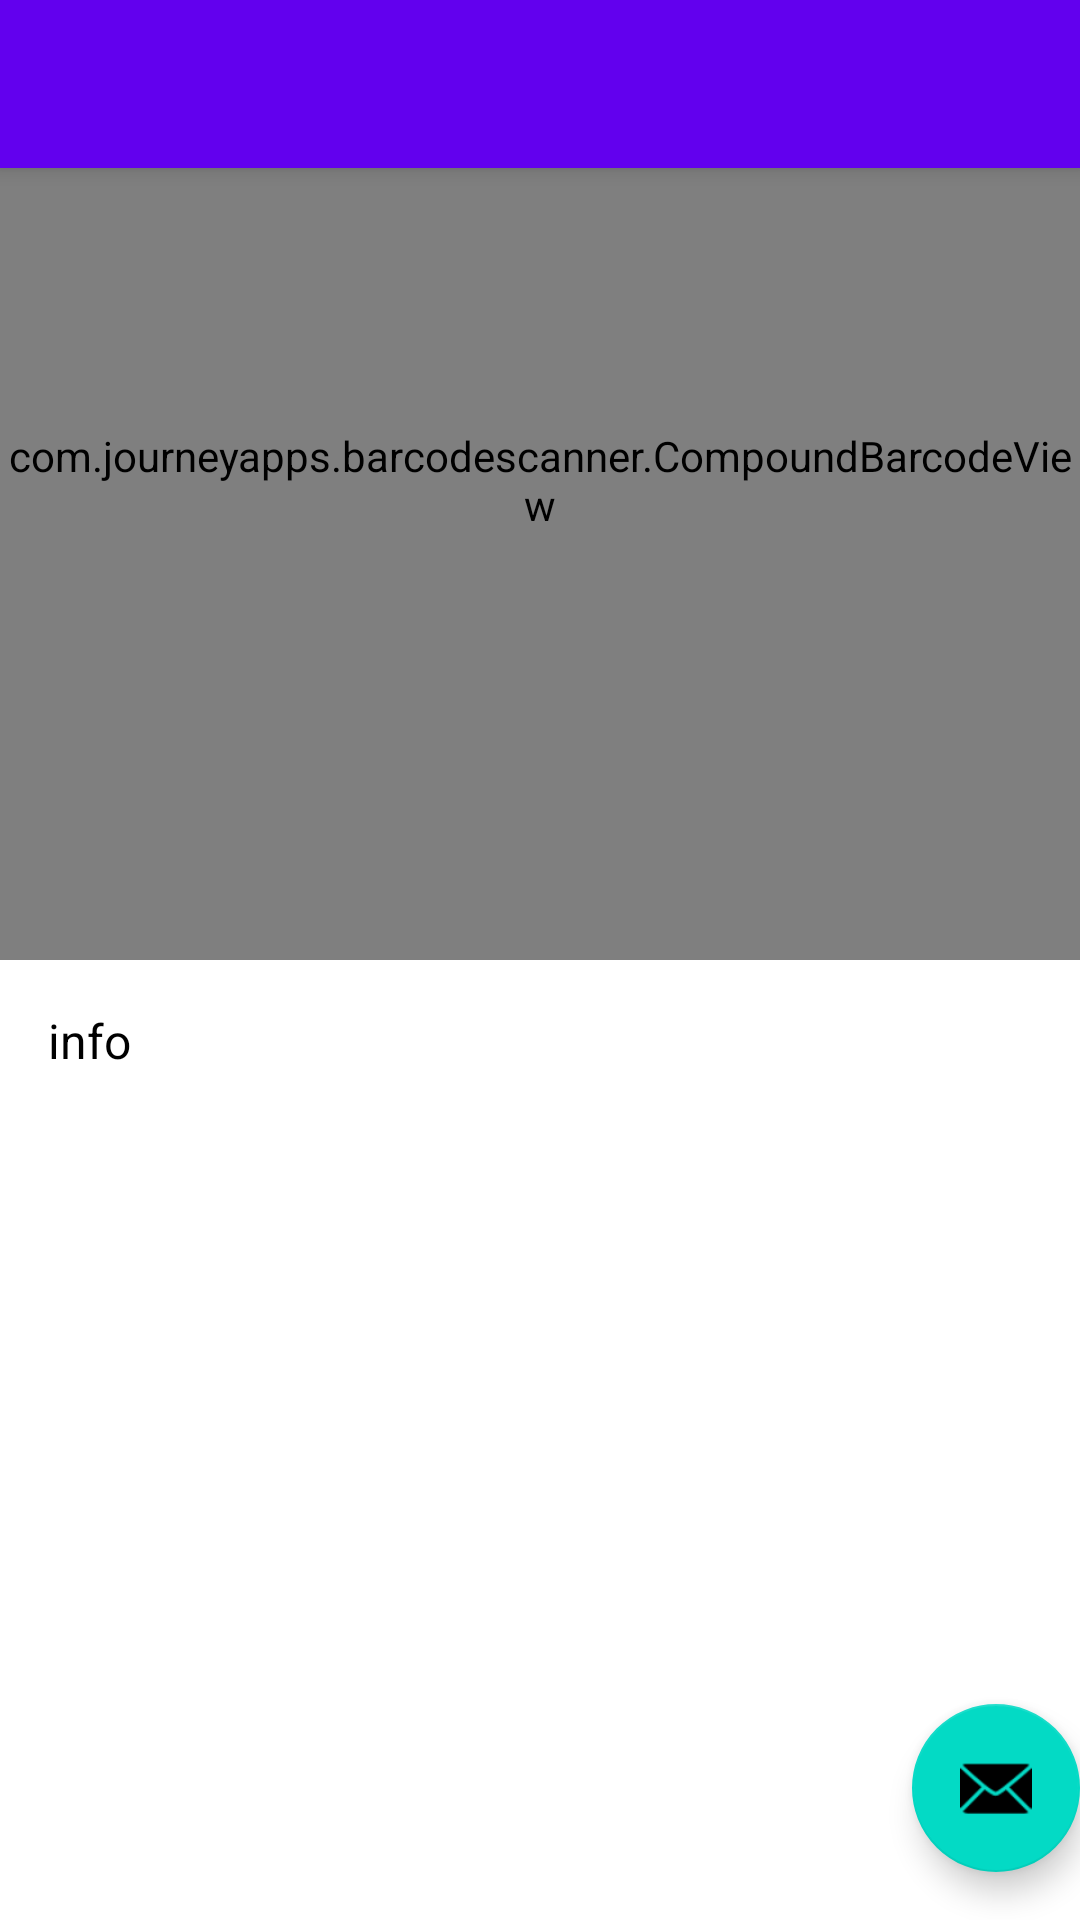

Screen size 1080 x 1920. Icon name, then its box in pixels as [x1=x1, y1=y1, x2=x2, y2=y2]:
email: [x1=912, y1=1704, x2=1080, y2=1872]
